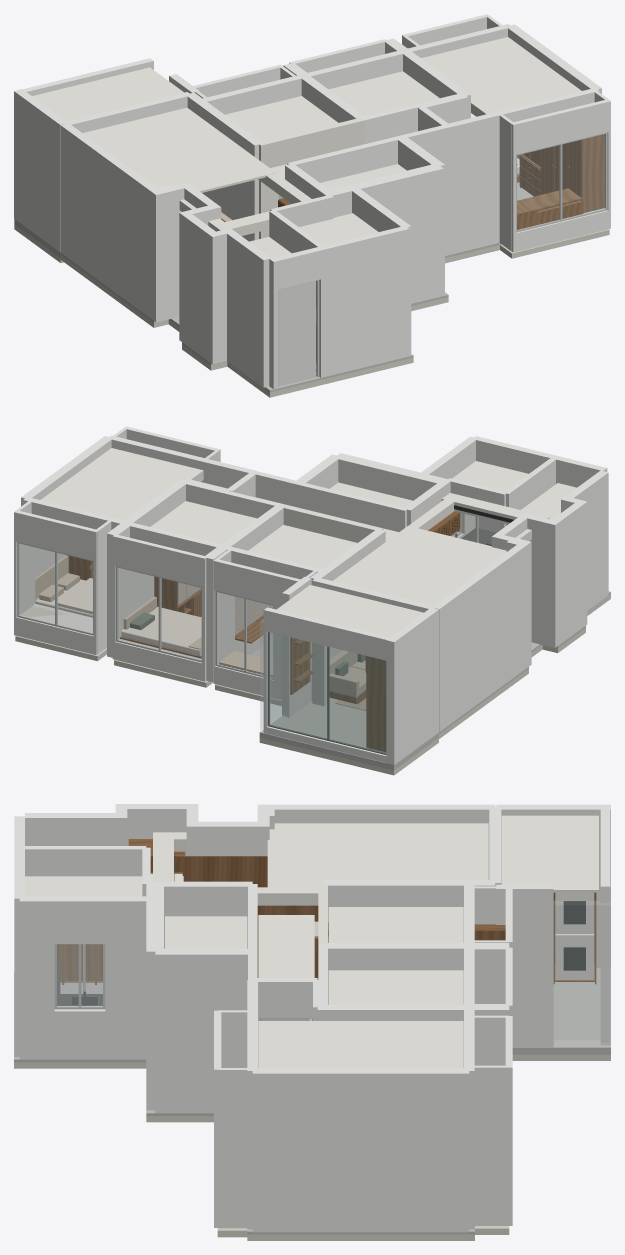
The model's file is 宜家建筑白模.glb.
3 renders of one model, top to bottom at view 1: azimuth 30°, elevation 25°; view 2: azimuth 150°, elevation 25°; view 3: azimuth 270°, elevation 25°, orthographic. The views are drawn at different scales.
Parts seen in each view (by area): view 1: W-living-west-jamb-0, W-kitchen-exterior-south-jamb-0, C-panel-living, W-bay-master-bottom-room-jamb-0, C-panel-master, W-balcony-left-jamb-0, W-entry-west-jamb-0, W-bathroom-south-jamb-3, C-panel-balcony, W-entry-DWG-north-join, D-entry-leaf, WIN-bay-master-bottom-glass-a (+55 smaller); view 2: W-living-west-jamb-0, NEW-balcony-glass, C-panel-living, W-balcony-left-jamb-0, C-panel-master, C-panel-balcony, W-west-return-jamb-0, FIN-balcony-pending, W-entry-west-jamb-0, W-balcony-front-lintel-2, W-west-niche-jamb-0, WIN-bay-bedroom2-glass-a (+77 smaller); view 3: W-master-east-jamb-0, C-panel-living, W-bathroom-east-jamb-0, C-panel-master, W-balcony-right-glass, W-balcony-right-jamb-0, C-panel-balcony, W-kitchen-exterior-east-jamb-0, W-kitchen-exterior-east-jamb-3, W-bay-master-top-right-jamb-0, W-bay-master-bottom-right-jamb-0, C-panel-bedroom1 (+46 smaller).
Part boxes in pixels (x1=…): W-living-west-jamb-0: x1=60, y1=124, x2=157, y2=318; W-kitchen-exterior-south-jamb-0: x1=321, y1=226, x2=409, y2=376; C-panel-living: x1=83, y1=107, x2=275, y2=192; W-bay-master-bottom-room-jamb-0: x1=445, y1=111, x2=499, y2=254; C-panel-master: x1=421, y1=37, x2=581, y2=114; W-balcony-left-jamb-0: x1=14, y1=89, x2=65, y2=252; W-entry-west-jamb-0: x1=227, y1=231, x2=271, y2=387; W-bathroom-south-jamb-3: x1=391, y1=164, x2=443, y2=303; C-panel-balcony: x1=32, y1=67, x2=183, y2=121; W-entry-DWG-north-join: x1=151, y1=183, x2=189, y2=322; D-entry-leaf: x1=278, y1=281, x2=315, y2=386; WIN-bay-master-bottom-glass-a: x1=517, y1=145, x2=560, y2=230; W-living-west-jamb-0: x1=431, y1=543, x2=526, y2=732; NEW-balcony-glass: x1=269, y1=632, x2=385, y2=753; C-panel-living: x1=333, y1=526, x2=506, y2=605; W-balcony-left-jamb-0: x1=386, y1=607, x2=438, y2=764; C-panel-master: x1=40, y1=448, x2=203, y2=520; C-panel-balcony: x1=277, y1=585, x2=423, y2=637; W-west-return-jamb-0: x1=522, y1=513, x2=559, y2=647; FIN-balcony-pending: x1=259, y1=701, x2=438, y2=770; W-entry-west-jamb-0: x1=566, y1=470, x2=608, y2=610; W-balcony-front-lintel-2: x1=266, y1=608, x2=390, y2=660; W-west-niche-jamb-0: x1=552, y1=503, x2=582, y2=644; WIN-bay-bedroom2-glass-a: x1=160, y1=578, x2=201, y2=659; W-master-east-jamb-0: x1=252, y1=1068, x2=469, y2=1232; C-panel-living: x1=267, y1=823, x2=488, y2=895; W-bathroom-east-jamb-0: x1=155, y1=948, x2=247, y2=1113; C-panel-master: x1=258, y1=1021, x2=463, y2=1068; W-balcony-right-glass: x1=554, y1=901, x2=610, y2=1044; W-balcony-right-jamb-0: x1=496, y1=884, x2=553, y2=1047; C-panel-balcony: x1=501, y1=815, x2=598, y2=892; W-kitchen-exterior-east-jamb-0: x1=105, y1=896, x2=146, y2=1059; W-kitchen-exterior-east-jamb-3: x1=19, y1=896, x2=54, y2=1059; W-bay-master-top-right-jamb-0: x1=474, y1=1065, x2=509, y2=1225; W-bay-master-bottom-right-jamb-0: x1=217, y1=1068, x2=251, y2=1228; C-panel-bedroom1: x1=328, y1=907, x2=463, y2=942.
Bounding box in the file's own units: 10.77 × 3.2 × 10.08.
Materials: 25 (8 with a texture image).
